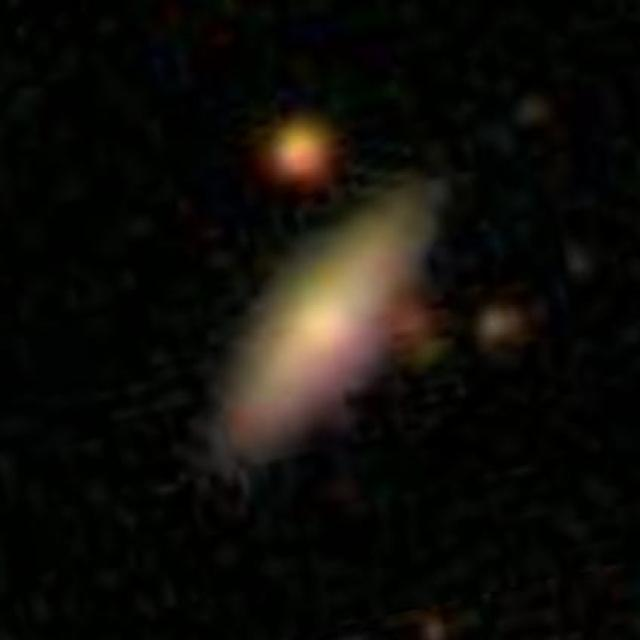galaxy: (186, 185, 442, 499), (259, 114, 338, 192), (384, 291, 452, 373), (475, 305, 532, 352), (518, 94, 548, 129), (415, 618, 460, 640), (565, 255, 597, 281)
